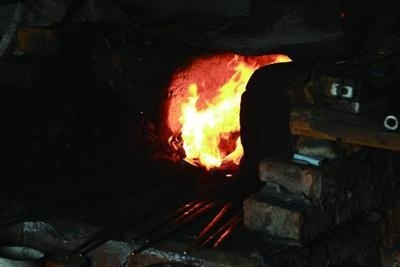fire: (167, 54, 257, 170)
